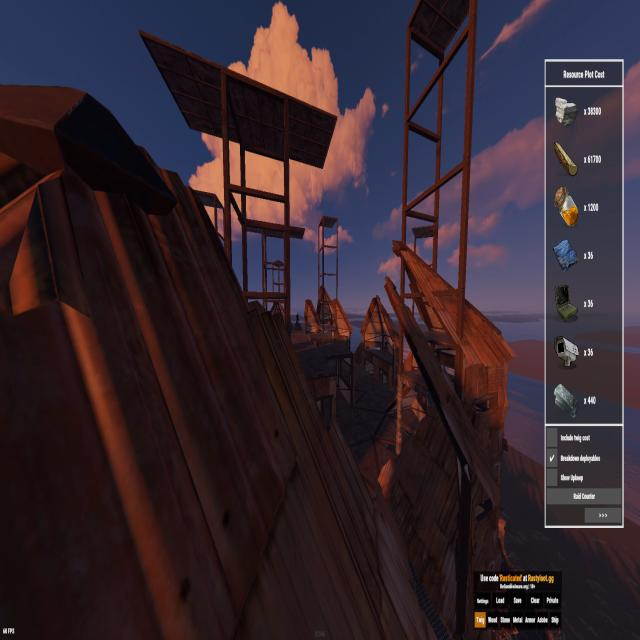Player: (296, 314, 299, 324)
